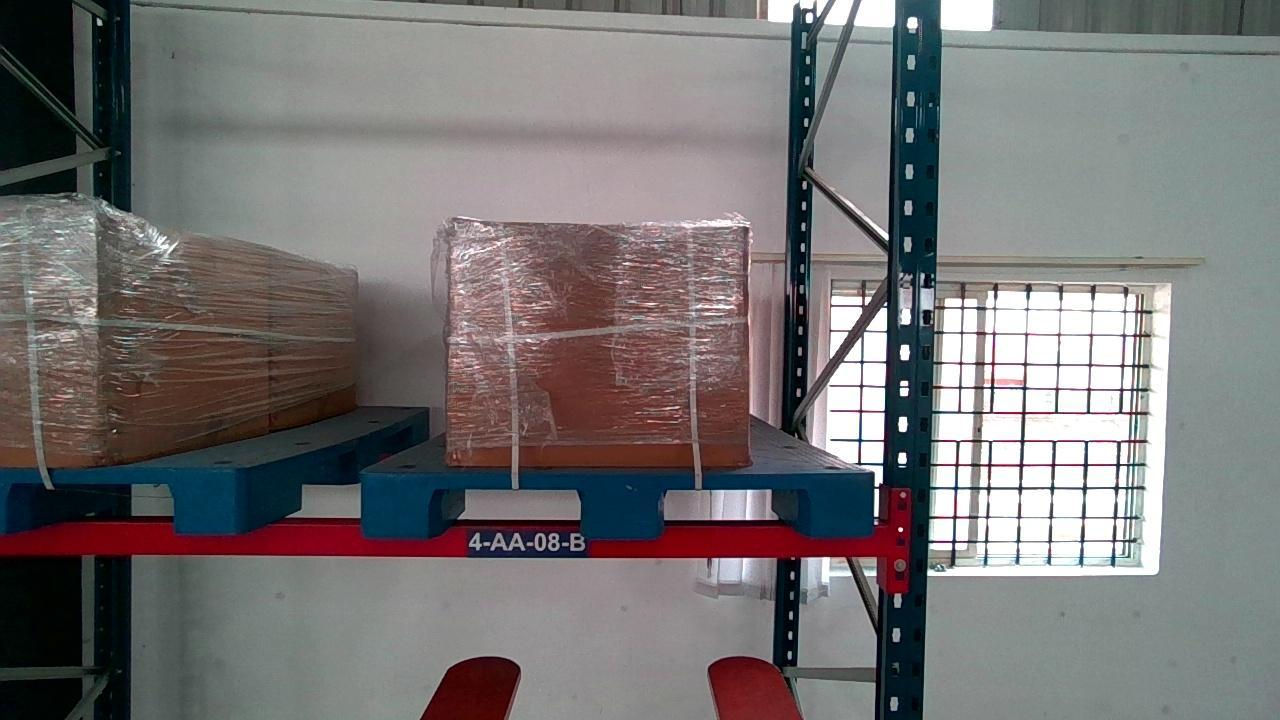h_rack: (0, 524, 894, 557)
small_pallet: (361, 473, 872, 537)
